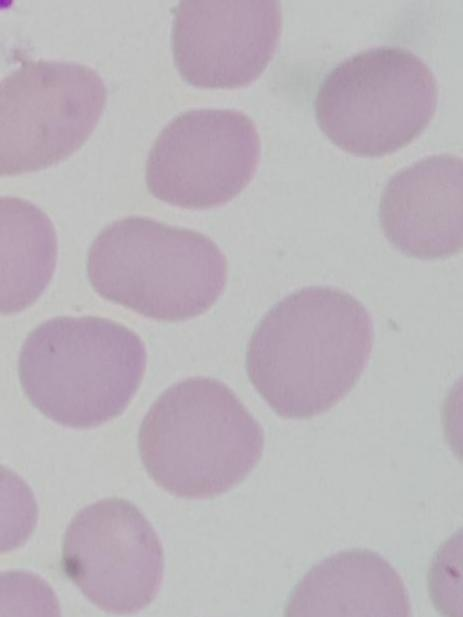Uninfected: (245, 289, 372, 413), (138, 374, 263, 499), (88, 216, 225, 321), (18, 316, 141, 429), (315, 47, 433, 162), (142, 107, 261, 211), (2, 61, 105, 179), (65, 499, 161, 615), (172, 0, 276, 91), (282, 544, 407, 617), (380, 152, 463, 261)
